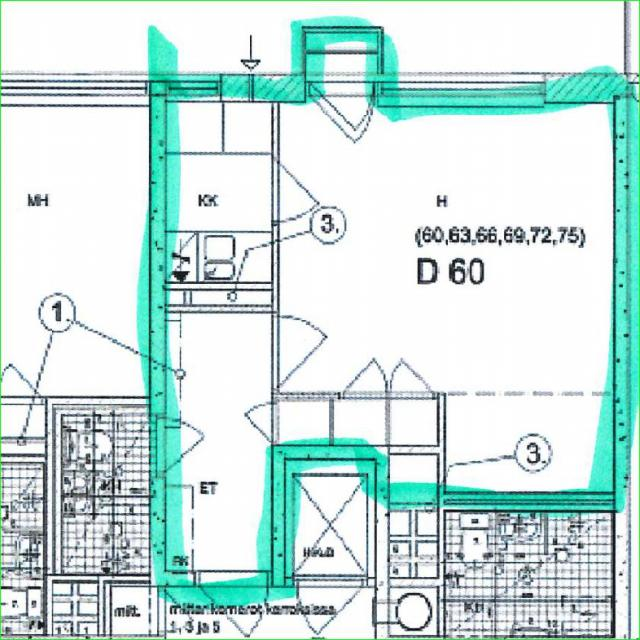door: (310, 72, 374, 171), (271, 316, 346, 385), (149, 418, 220, 474), (271, 162, 336, 220), (344, 349, 384, 399), (392, 350, 432, 399), (232, 401, 279, 442)
